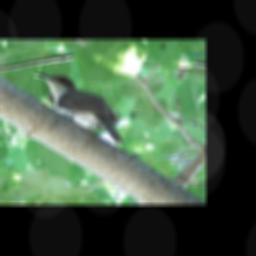Cuckoo: (33, 72, 125, 145)
